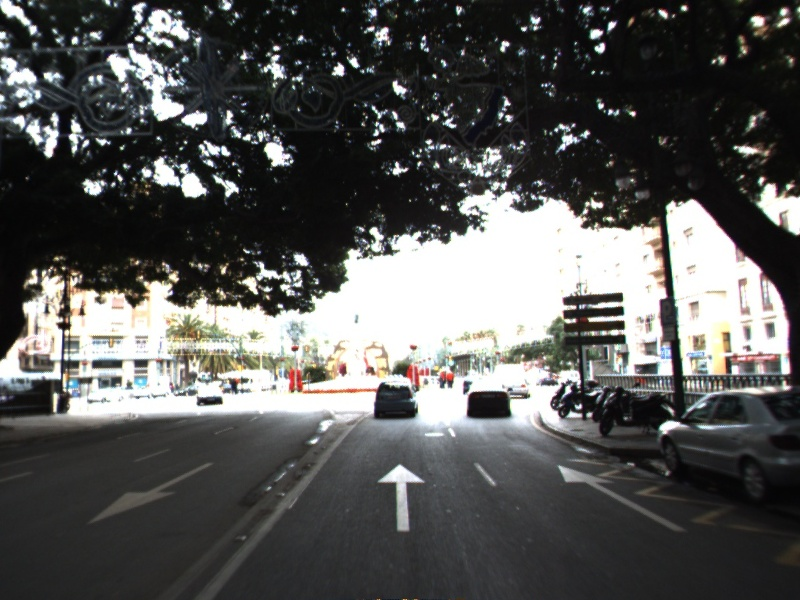STRAIGHT: (555, 463, 689, 535), (375, 462, 428, 533)
